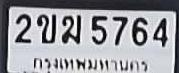2: (14, 13, 32, 44)
4: (152, 17, 168, 48)
5: (91, 15, 108, 45)
6: (131, 16, 148, 47)
7: (112, 16, 128, 46)
A02: (36, 13, 56, 44)
A06: (61, 14, 82, 45)
BKK: (27, 53, 149, 73)
